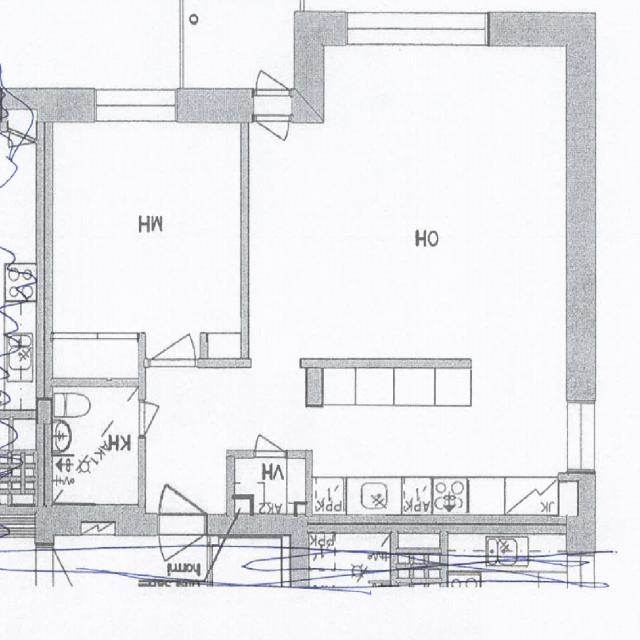door: (159, 462, 205, 535), (159, 514, 205, 586), (150, 308, 195, 366), (256, 115, 290, 158), (257, 52, 289, 96), (138, 402, 175, 436), (256, 418, 284, 458)
